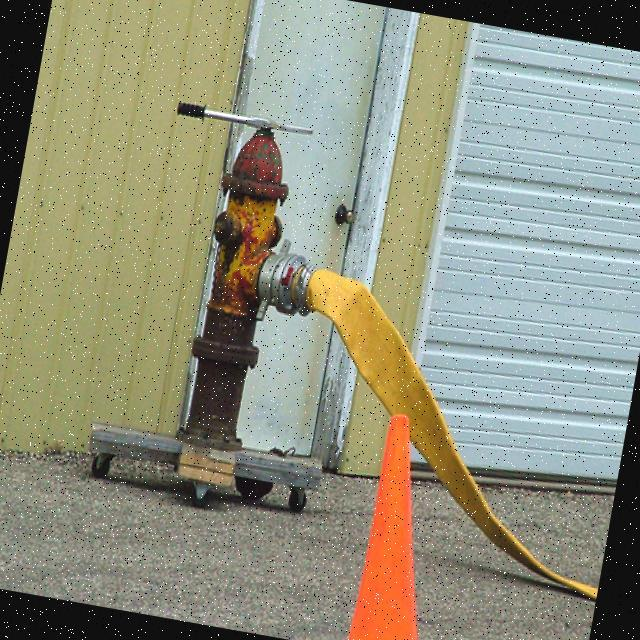fire_hydrant: (81, 92, 640, 595)
